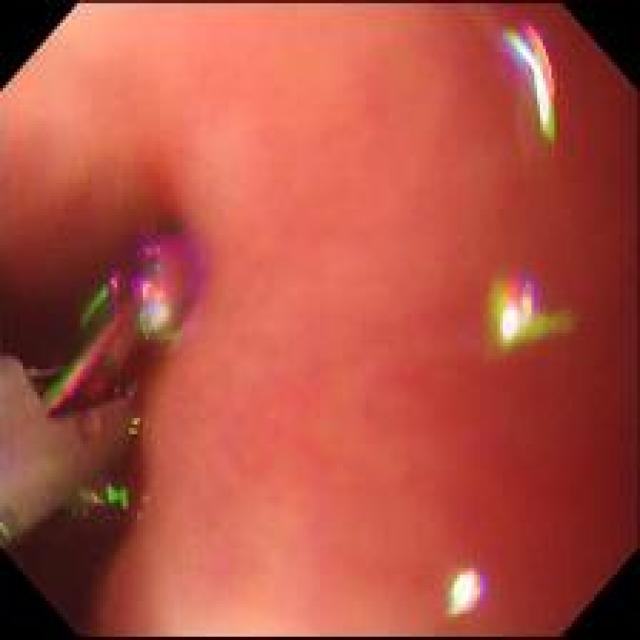color misalignment: (41, 231, 202, 414), (505, 18, 559, 141), (491, 277, 569, 354), (447, 570, 486, 620), (78, 484, 128, 520), (128, 415, 142, 436)
contrast: (30, 510, 125, 626), (0, 304, 70, 360)
instrument: (1, 239, 188, 550)
specularity: (456, 577, 474, 604), (502, 310, 514, 338)
